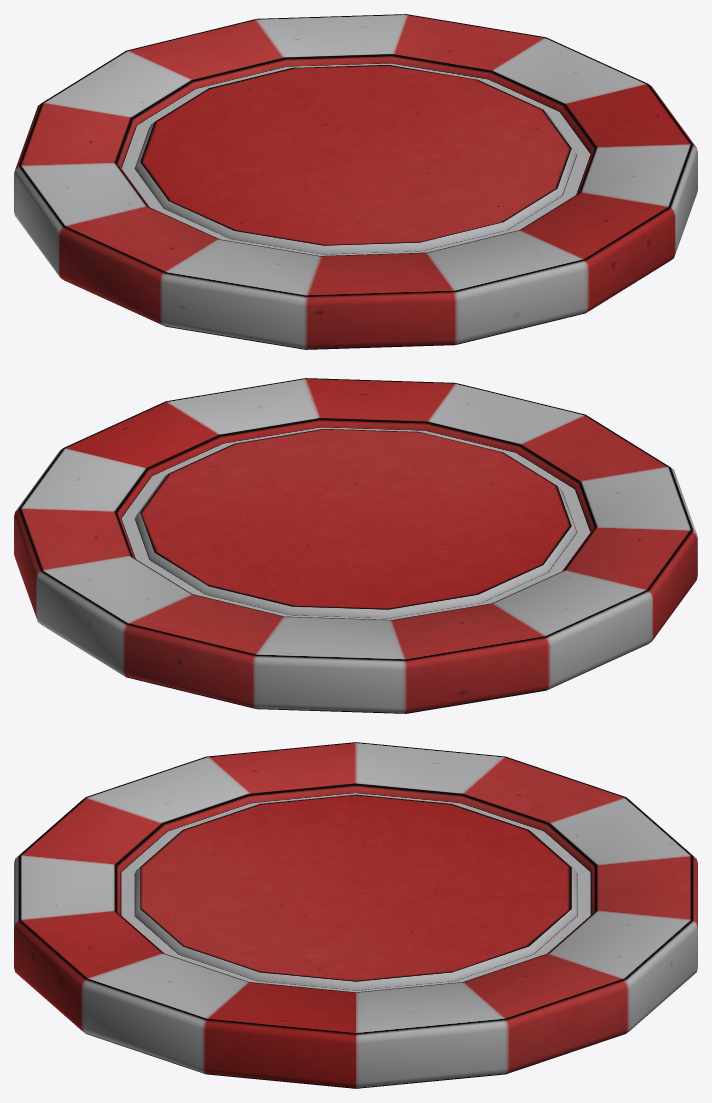
The model's file is poker_chip_single.fbx.
The picture shows the model from 3 angles, top to bottom: view 1: azimuth 30°, elevation 25°; view 2: azimuth 150°, elevation 25°; view 3: azimuth 270°, elevation 25°; orthographic projection. The views are drawn at different scales.
Visible parts, largest first — view 1: poker_chip_single; view 2: poker_chip_single; view 3: poker_chip_single.
Boxes of the visible parts, x1,y1,x2,y2 form: poker_chip_single: (14, 14, 697, 349); poker_chip_single: (14, 378, 697, 713); poker_chip_single: (14, 742, 697, 1088).
Bounding box in the file's own units: 11.7 × 1.01 × 11.41.
Materials: 1 (1 with a texture image).
